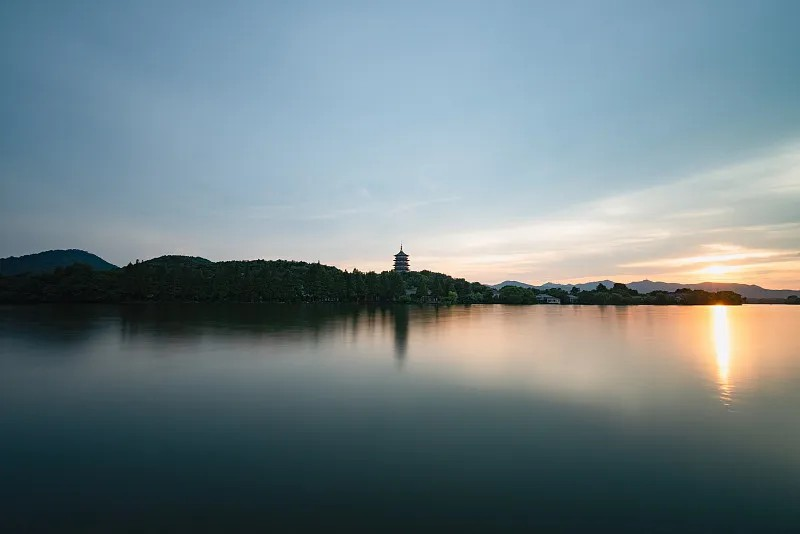Leifeng: (392, 242, 410, 275)
